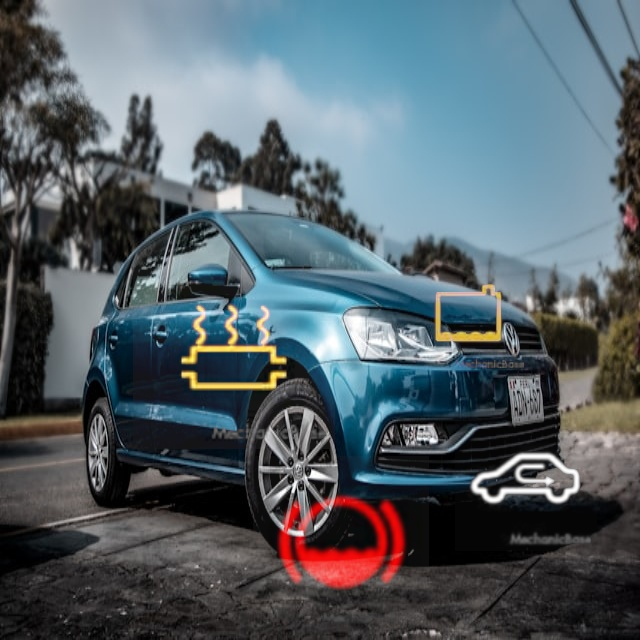symbol: (133, 247, 335, 449), (253, 456, 429, 632), (455, 409, 597, 551), (408, 253, 529, 374)
